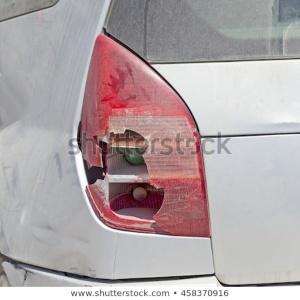tail_lights: (81, 44, 192, 237)
